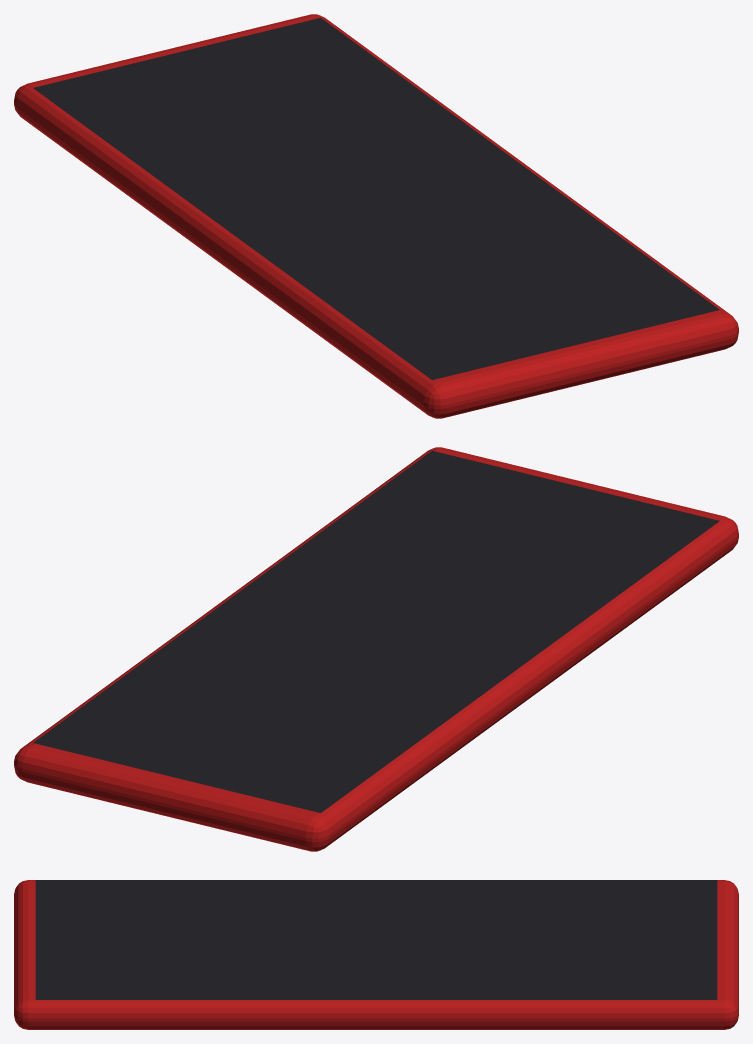
The model's file is Phone_262.glb.
The picture shows the model from 3 angles, top to bottom: view 1: azimuth 30°, elevation 25°; view 2: azimuth 150°, elevation 25°; view 3: azimuth 270°, elevation 25°; orthographic projection. The views are drawn at different scales.
Parts seen in each view (by area): view 1: Phone_Screen, Phone_Body; view 2: Phone_Screen, Phone_Body; view 3: Phone_Screen, Phone_Body.
Part boxes in pixels (x1,y1,x2,y2): Phone_Screen: (33,17,719,379); Phone_Body: (14,14,738,418); Phone_Screen: (33,450,719,812); Phone_Body: (14,447,738,851); Phone_Screen: (35,880,717,999); Phone_Body: (14,880,738,1029).
Bounding box in the file's own units: 0.0719 × 0.0076 × 0.169.
